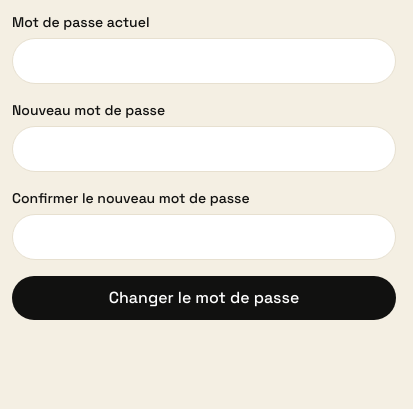
Test: AccountPasswordForm › reports a failed update in French, without echoing anything the user typed
The image size is (413, 409).
In the password field labelled "Mot de passe actuel": (204, 61) [12,38,396,84], type "actuel-valide"
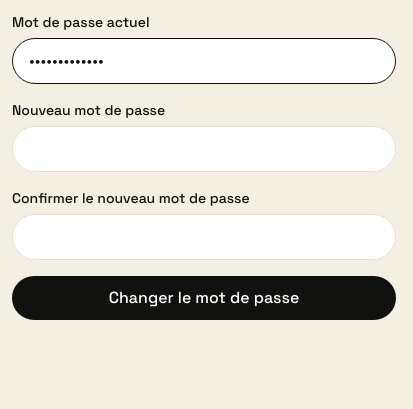
In the password field labelled "Nouveau mot de passe": (204, 149) [12,126,396,172], type "motdepasse-valide"
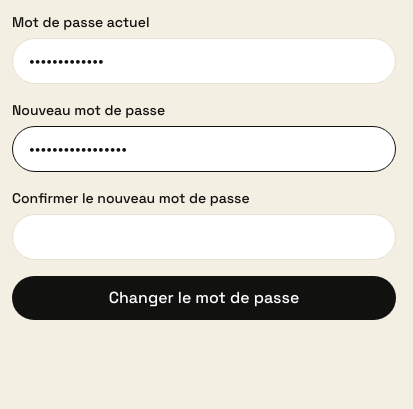
In the password field labelled "Confirmer le nouveau mot de passe": (204, 237) [12,214,396,260], type "motdepasse-valide"
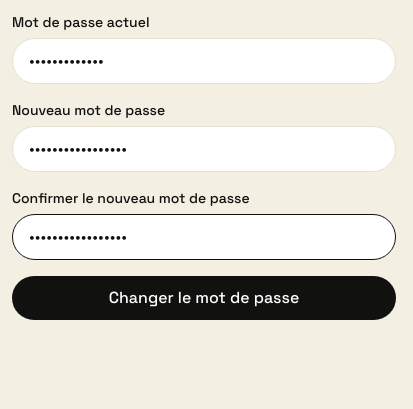
Click the button "Changer le mot de passe": (204, 298) [12,276,396,320]
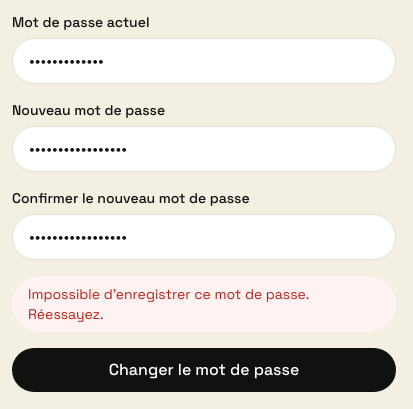
Now the message shows "Impossible", box [28,285,309,323]
